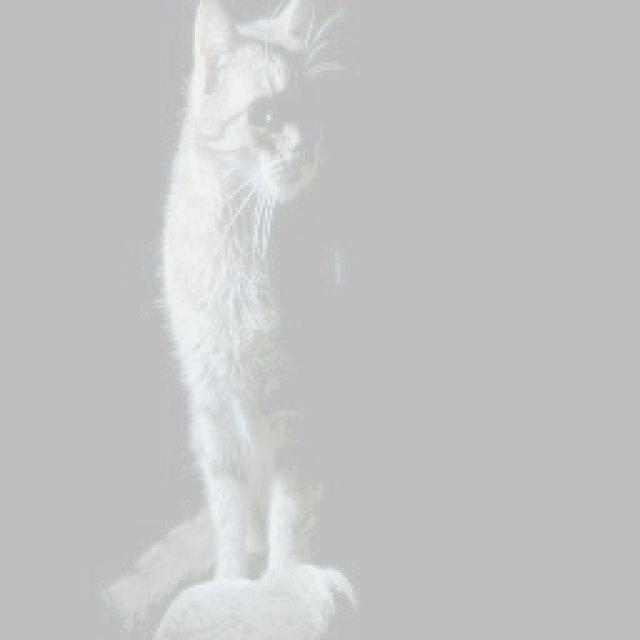cat: (102, 0, 359, 622)
